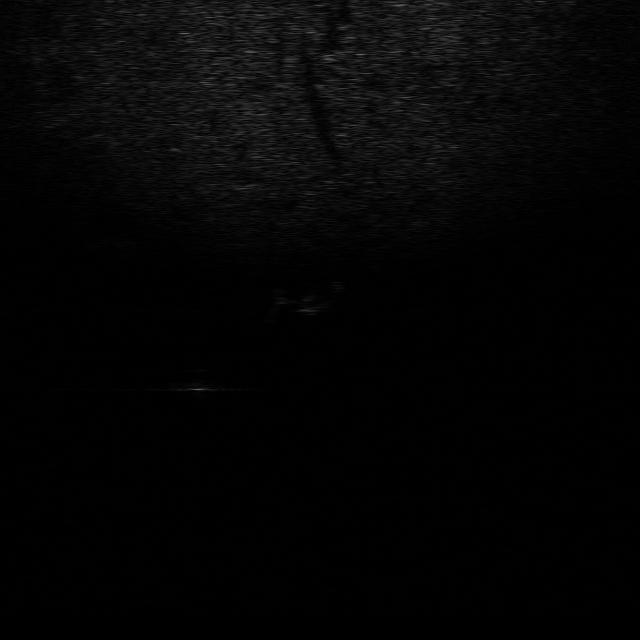ball: (172, 363, 226, 399)
human body: (265, 277, 344, 323)
